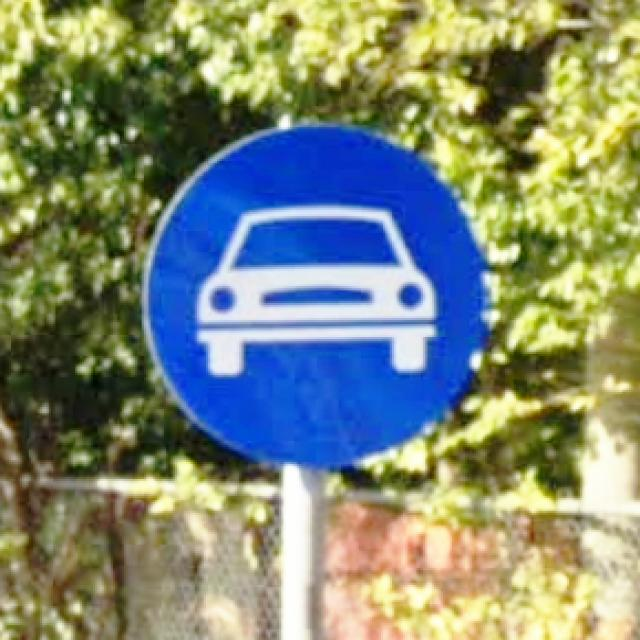car: (137, 118, 496, 470)
